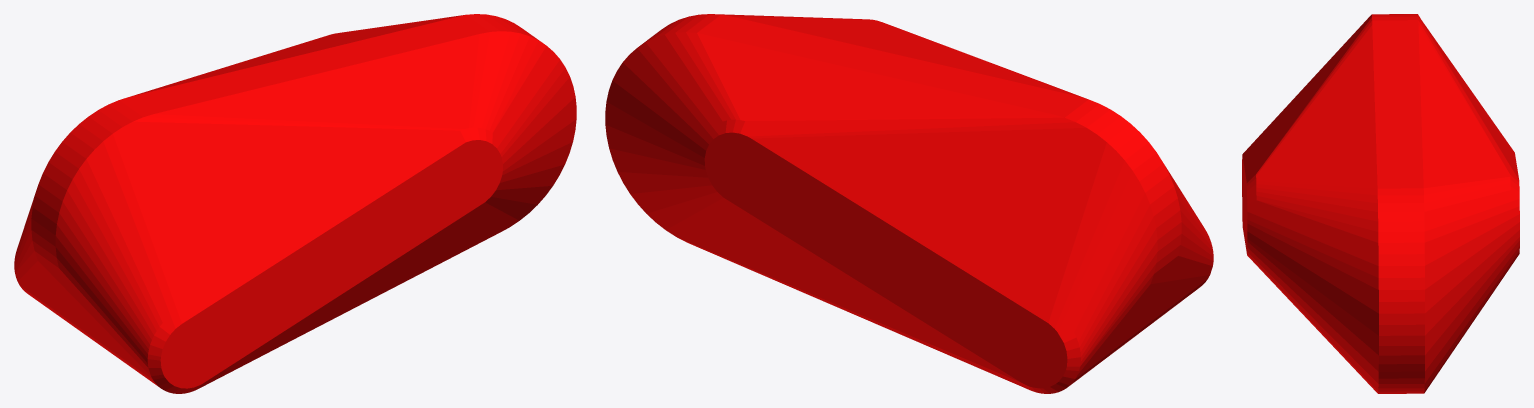
Rendered from col_middle_phalanx.gltf.
3 views of the same model, side by side, from view 1: azimuth 30°, elevation 25°; view 2: azimuth 150°, elevation 25°; view 3: azimuth 270°, elevation 25° (orthographic). The views are drawn at different scales.
Visible parts, largest first — view 1: col_middle_phalanx; view 2: col_middle_phalanx; view 3: col_middle_phalanx.
Part boxes in pixels (<box>): col_middle_phalanx: <box>14,14,576,393</box>; col_middle_phalanx: <box>605,14,1213,393</box>; col_middle_phalanx: <box>1242,14,1519,393</box>.
Size of the model in its own units: 0.064 by 0.0264 by 0.0301.
